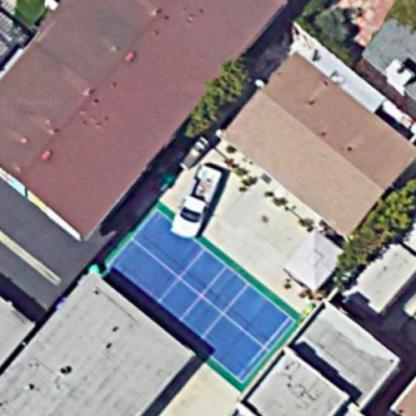car: (175, 153, 223, 244)
